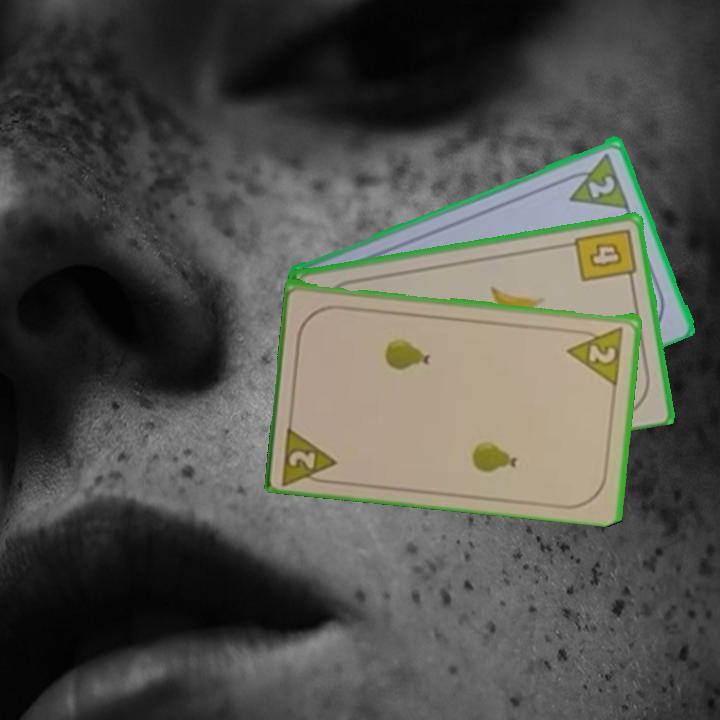2p: (558, 148, 633, 212), (278, 419, 341, 486), (565, 322, 627, 385)
4b: (571, 224, 639, 287)
